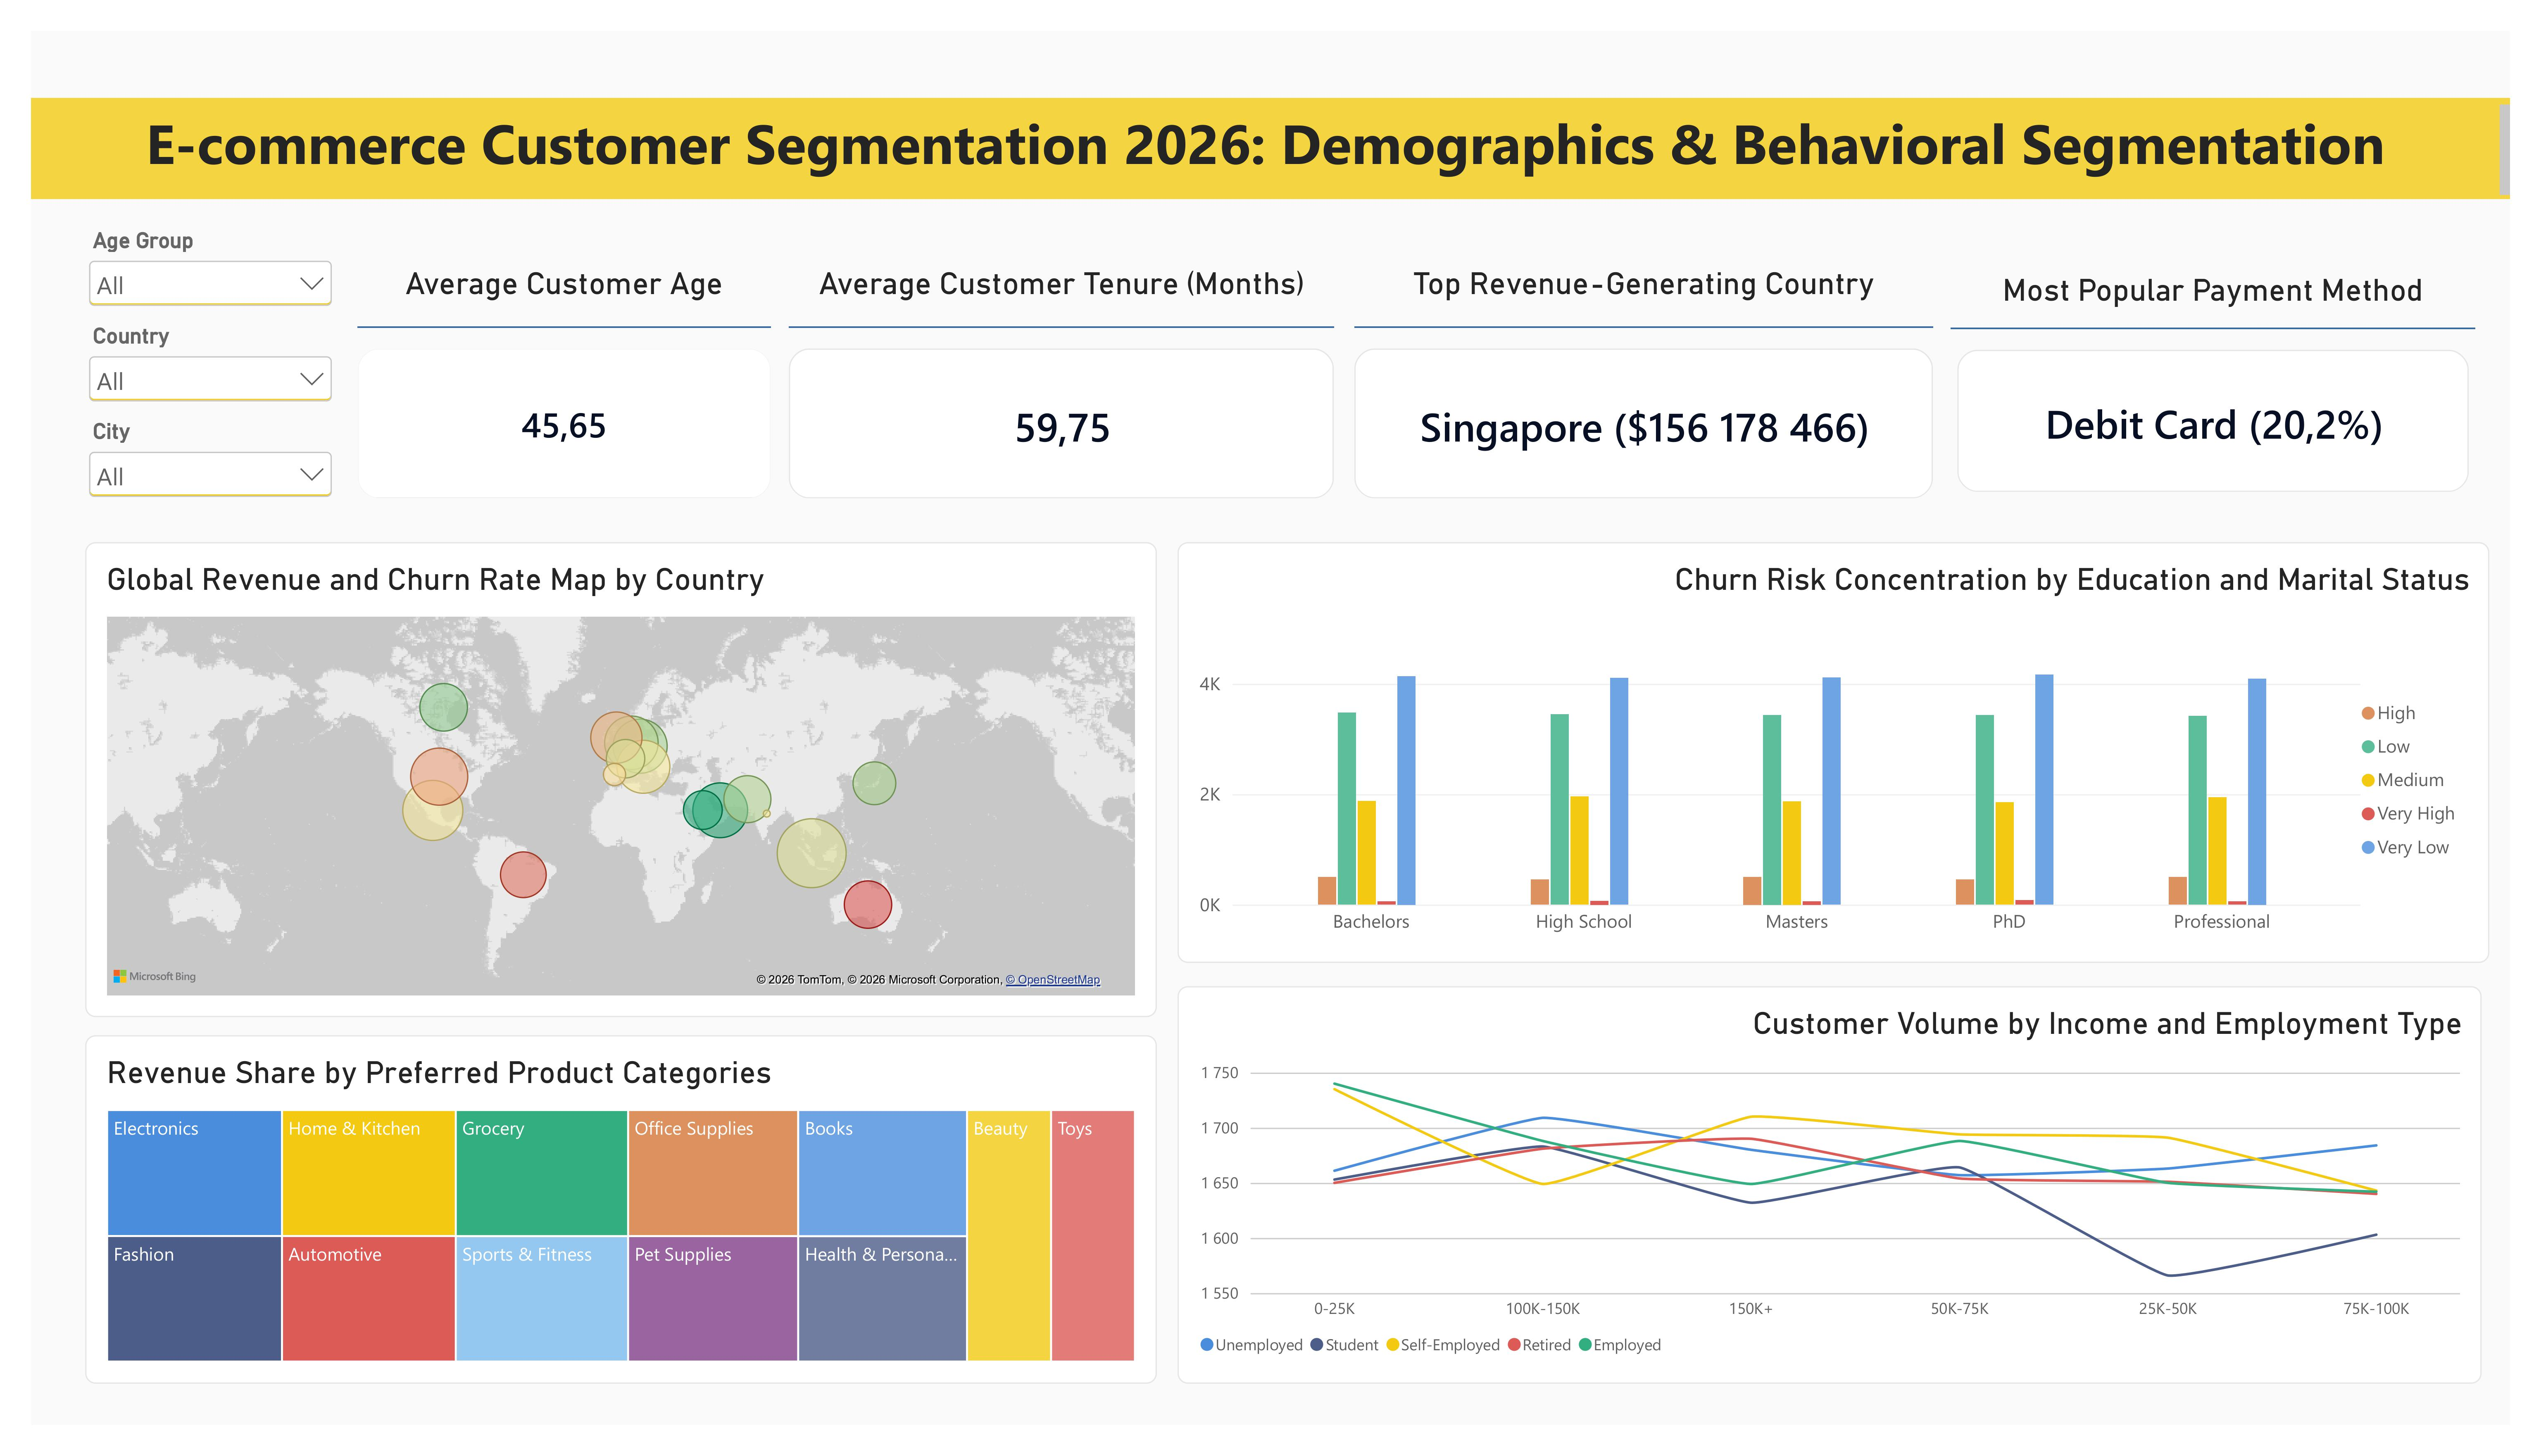

The dashboard page shown, as its layout file describes it:
{"tool":"powerbi","page":{"name":"Page 3","canvas":[1920,1080],"ordinal":2},"visuals":[{"type":"map","title":"Global Revenue and Churn Rate Map by Country","fields":{"Category":["E-commerce_Customer_Segmentation_2026.country","E-commerce_Customer_Segmentation_2026.city"],"Size":["E-commerce_Customer_Segmentation_2026.Total Revenue"]},"box":[42,396,830,368],"z":0},{"type":"lineChart","title":"Customer Volume by Income and Employment Type","fields":{"Category":["E-commerce_Customer_Segmentation_2026.income_bracket"],"Y":["Count(E-commerce_Customer_Segmentation_2026.customer_id)"],"Series":["E-commerce_Customer_Segmentation_2026.employment_type"]},"box":[888,740,1010,308],"z":1000},{"type":"clusteredColumnChart","title":"Churn Risk Concentration by Education and Marital Status","fields":{"Category":["E-commerce_Customer_Segmentation_2026.education_level","E-commerce_Customer_Segmentation_2026.marital_status"],"Y":["CountNonNull(E-commerce_Customer_Segmentation_2026.customer_id)"],"Series":["E-commerce_Customer_Segmentation_2026.churn_risk_category"]},"box":[888,396,1016,326],"z":2000},{"type":"cardVisual","title":"Average Customer Tenure (Months)","fields":{"Data":["Avg(E-commerce_Customer_Segmentation_2026.tenure_months)"]},"box":[587.2,182.4,422,180],"z":3000},{"type":"cardVisual","title":"Average Customer Age","fields":{"Data":["Avg(E-commerce_Customer_Segmentation_2026.age)"]},"box":[253.2,182.4,320,180],"z":4000},{"type":"cardVisual","title":"Top Revenue-Generating Country","fields":{"Data":["E-commerce_Customer_Segmentation_2026.Top Revenue Country & Amount"]},"box":[1025.2,182.4,448,180],"z":5000},{"type":"cardVisual","title":"Most Popular Payment Method","fields":{"Data":["E-commerce_Customer_Segmentation_2026.Most Popular Payment Method + Share"]},"box":[1487.2,182.4,406,180],"z":6000},{"type":"slicer","fields":{"Values":["E-commerce_Customer_Segmentation_2026.country"]},"box":[40,226,198,74],"z":7000},{"type":"slicer","fields":{"Values":["E-commerce_Customer_Segmentation_2026.age_group"]},"box":[40,152,198,74],"z":8000},{"type":"textbox","box":[0,52,1920,78],"z":9000},{"type":"slicer","fields":{"Values":["E-commerce_Customer_Segmentation_2026.city"]},"box":[40,300,198,74],"z":10000},{"type":"treemap","title":"Revenue Share by Preferred Product Categories","fields":{"Group":["E-commerce_Customer_Segmentation_2026.preferred_category_1","E-commerce_Customer_Segmentation_2026.preferred_category_2","E-commerce_Customer_Segmentation_2026.preferred_category_3"],"Values":["E-commerce_Customer_Segmentation_2026.Total Revenue"]},"box":[42,778,830,270],"z":11000}]}

Visuals, with their boxes on the page's 1920x1080 design canvas (x1, y1, x2, y2). These are canvas units, not pixel positions in the 2541x1456 screenshot, which may show the page scaled, cropped or inside an application window:
"Global Revenue and Churn Rate Map by Country" map: l=42, t=396, r=872, b=764
"Customer Volume by Income and Employment Type" lineChart: l=888, t=740, r=1898, b=1048
"Churn Risk Concentration by Education and Marital Status" clusteredColumnChart: l=888, t=396, r=1904, b=722
"Average Customer Tenure (Months)" cardVisual: l=587, t=182, r=1009, b=362
"Average Customer Age" cardVisual: l=253, t=182, r=573, b=362
"Top Revenue-Generating Country" cardVisual: l=1025, t=182, r=1473, b=362
"Most Popular Payment Method" cardVisual: l=1487, t=182, r=1893, b=362
slicer - E-commerce_Customer_Segmentation_2026.country: l=40, t=226, r=238, b=300
slicer - E-commerce_Customer_Segmentation_2026.age_group: l=40, t=152, r=238, b=226
textbox: l=0, t=52, r=1920, b=130
slicer - E-commerce_Customer_Segmentation_2026.city: l=40, t=300, r=238, b=374
"Revenue Share by Preferred Product Categories" treemap: l=42, t=778, r=872, b=1048
